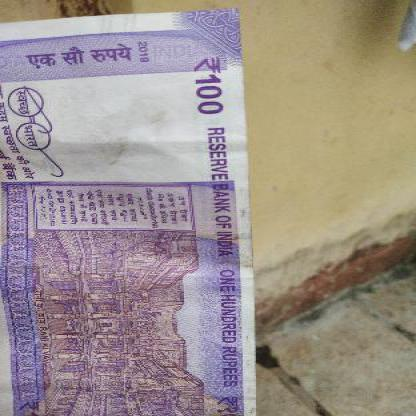New100Back: (0, 18, 247, 415)
